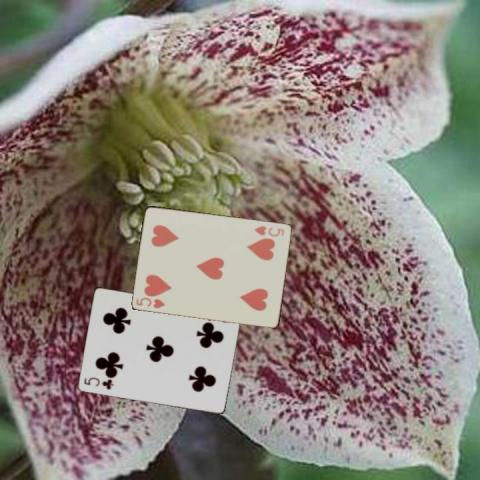5c: (80, 375, 114, 391)
5h: (133, 294, 167, 309), (252, 223, 285, 238)
